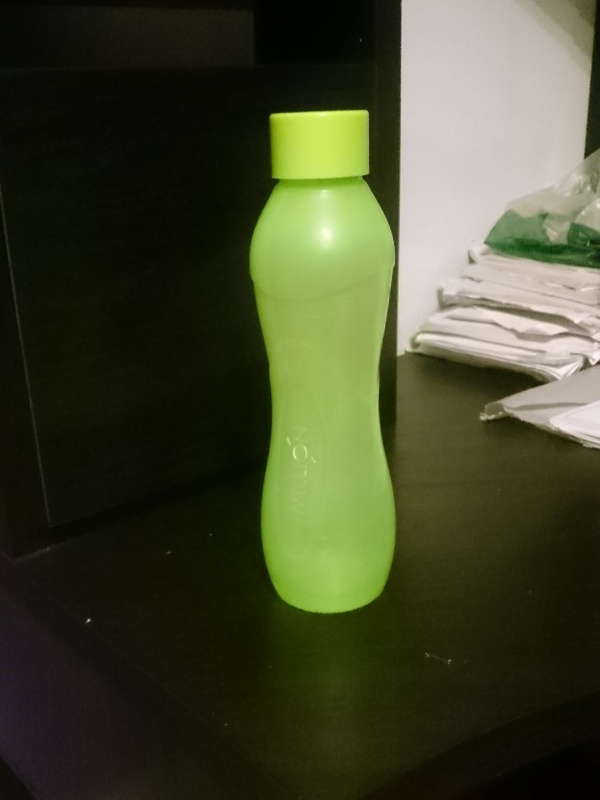my bottle: (251, 111, 392, 613)
